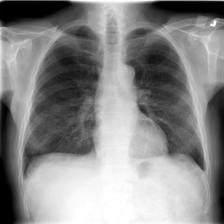normal: (18, 23, 210, 178)
